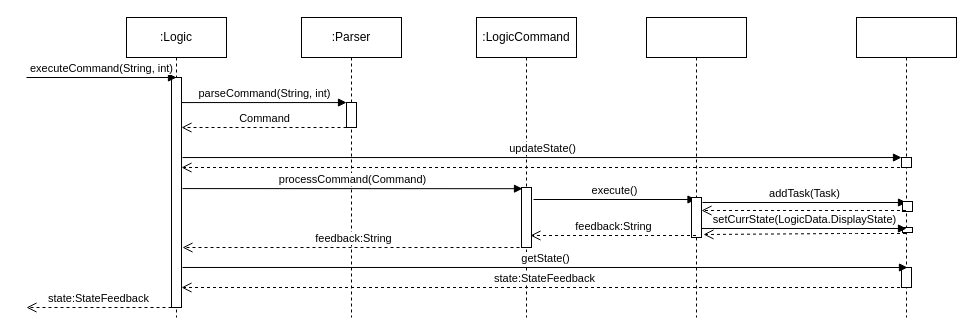
This 974x335 diagram has some shape labels left out. Each missing label, with the centre of its shape:
":Command" goes at (x=696, y=167).
":LogicData" goes at (x=906, y=167).
